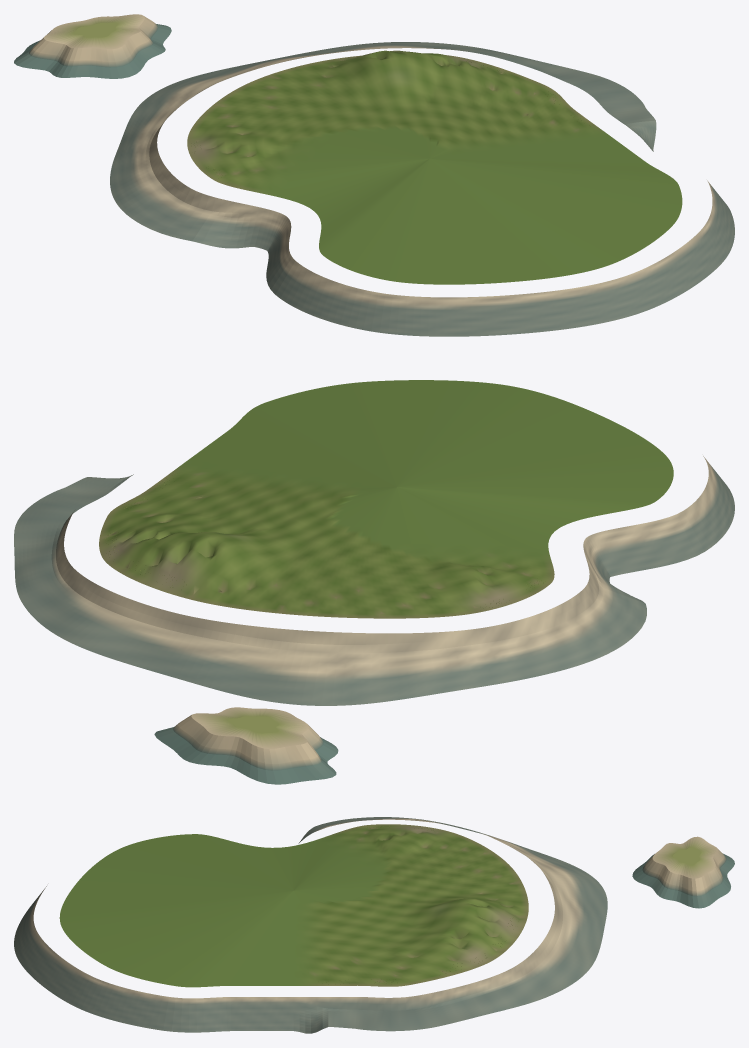
Rendered from coastal-terrain.glb.
The picture shows the model from 3 angles, top to bottom: view 1: azimuth 30°, elevation 25°; view 2: azimuth 150°, elevation 25°; view 3: azimuth 270°, elevation 25°; orthographic projection. The views are drawn at different scales.
Visible parts, largest first — view 1: inland, coast, lighthouse-reef; view 2: inland, coast, lighthouse-reef; view 3: inland, coast, lighthouse-reef.
Boxes of the visible parts, x1,y1,x2,y2 form: inland: (187, 50, 682, 284); coast: (110, 42, 734, 336); lighthouse-reef: (14, 14, 171, 78); inland: (99, 380, 673, 618); coast: (14, 456, 734, 705); lighthouse-reef: (154, 707, 338, 784); inland: (59, 824, 528, 987); coast: (14, 817, 607, 1033); lighthouse-reef: (632, 836, 734, 908).
Size of the model in its own units: 248 by 31.23 by 353.
